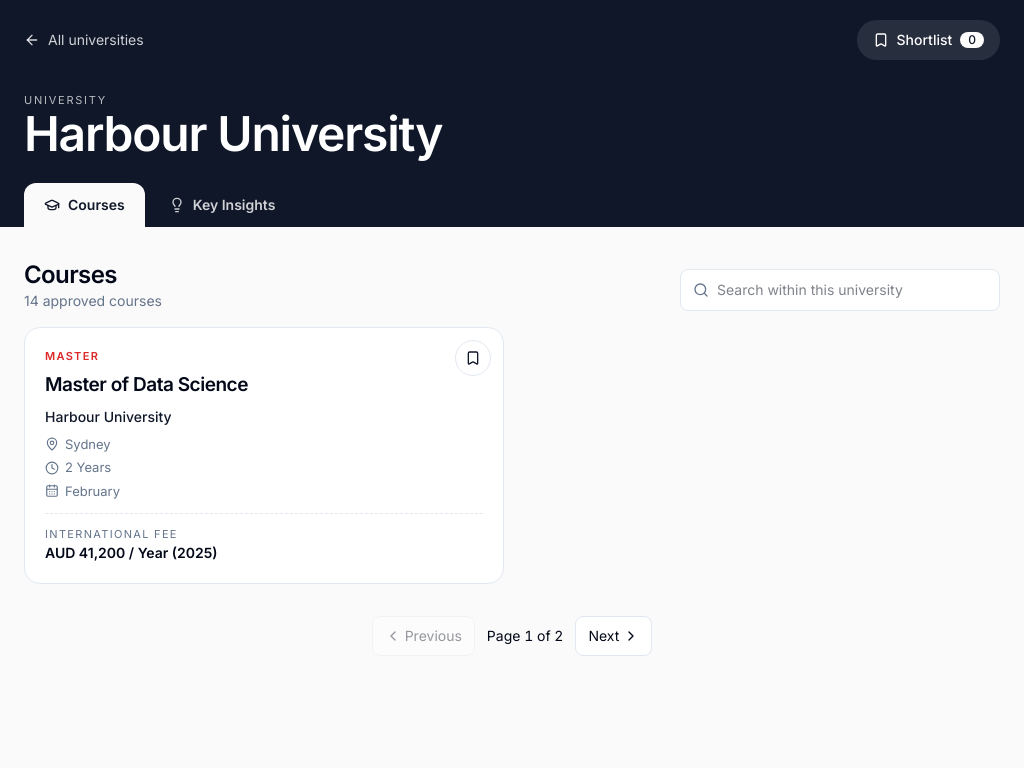
Test: public university page › shows the university's courses with pagination
Expected: the heading with test id "text-university-name" reads "Harbour University", [24,104,442,162]
Expected: the element with test id "card-course-1" is shown, [24,327,504,584]
Click the button with test id "button-next-page": {"x": 614, "y": 636} [575,616,652,656]
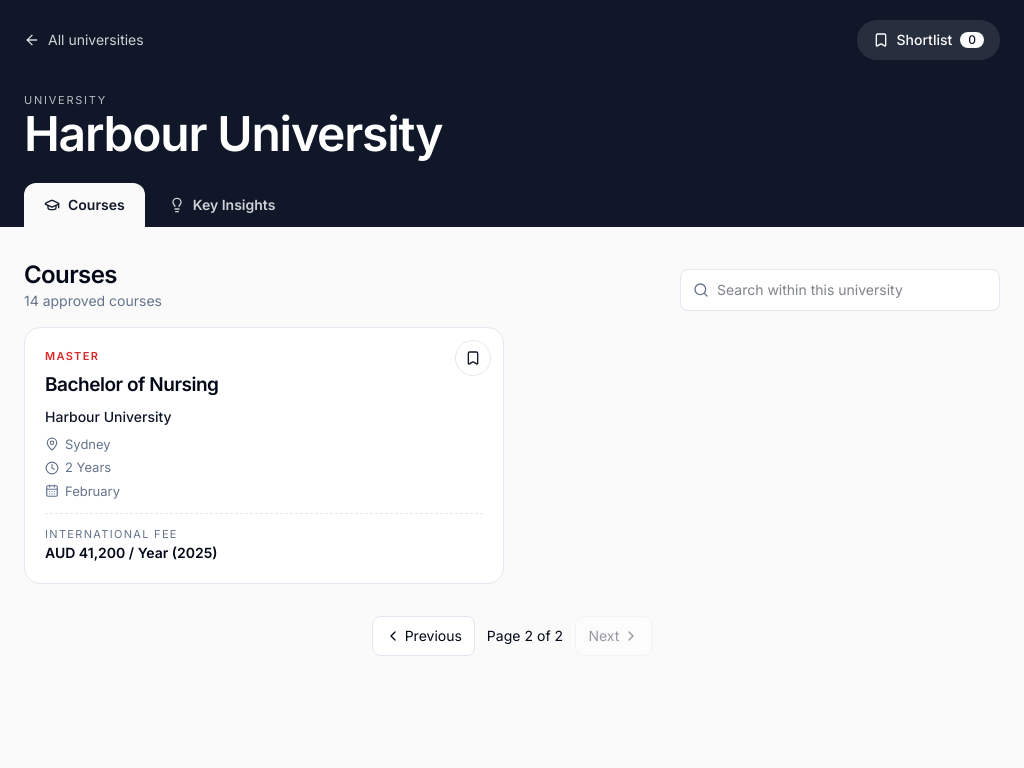
Expected: the element with test id "card-course-13" is shown, [24,327,504,584]
Expected: the text with test id "text-page" reads "Page 2 of 2", [487,626,564,646]
